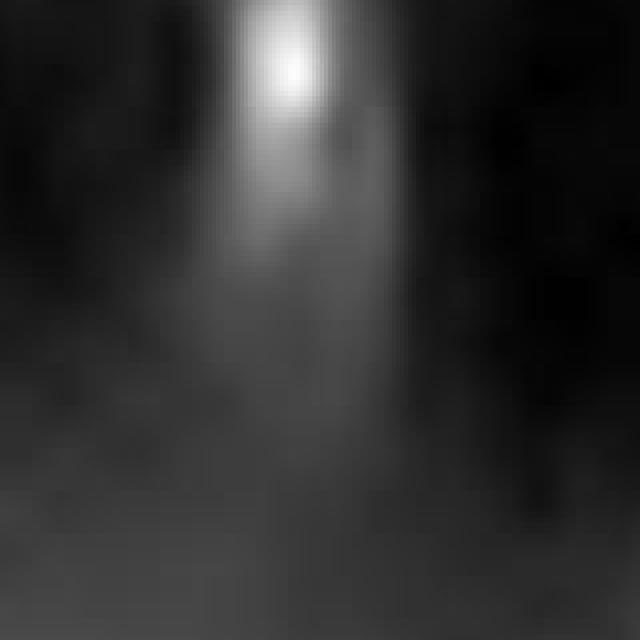person: (157, 1, 413, 369)
